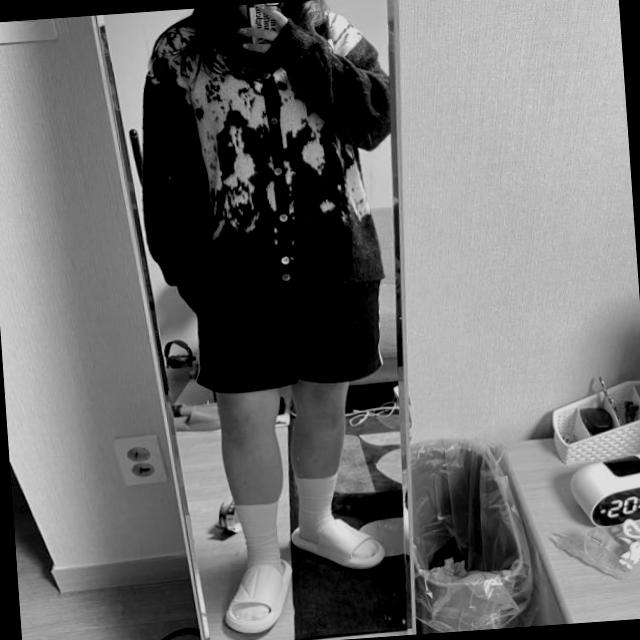cardigan: (126, 0, 408, 318)
shortpants: (185, 264, 389, 399)
